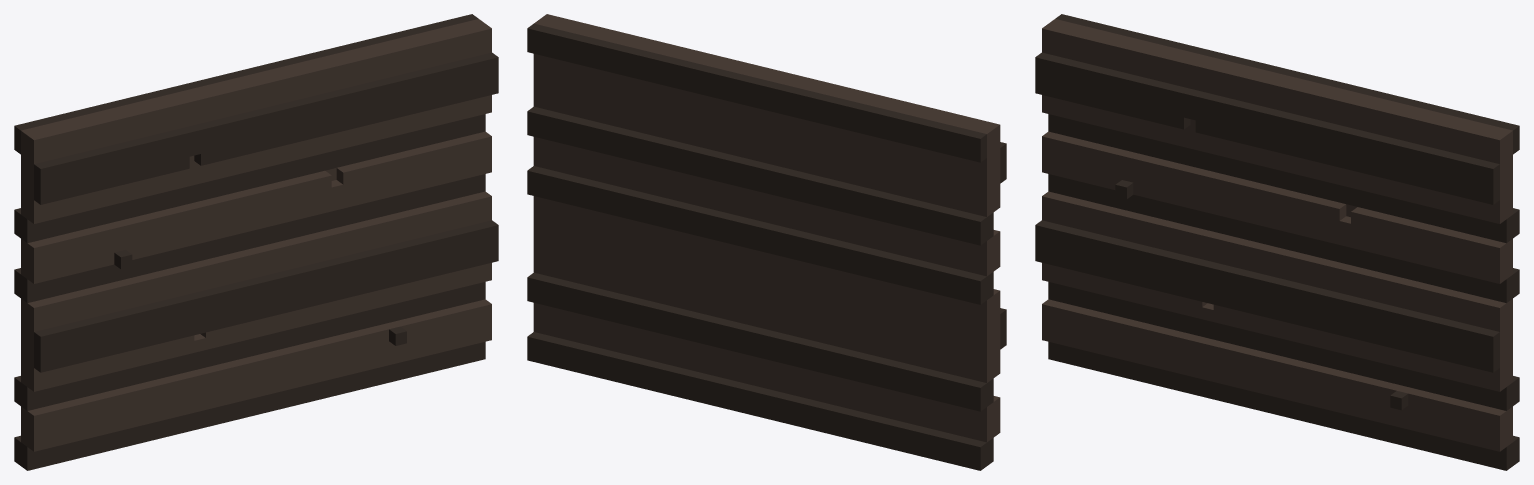
The model's file is Wall.obj.
3 views of the same model, side by side, from view 1: azimuth 30°, elevation 25°; view 2: azimuth 150°, elevation 25°; view 3: azimuth 330°, elevation 25° (orthographic).
Size of the model in its own units: 8 by 5.6 by 0.8.
Materials: 1 (1 with a texture image).
